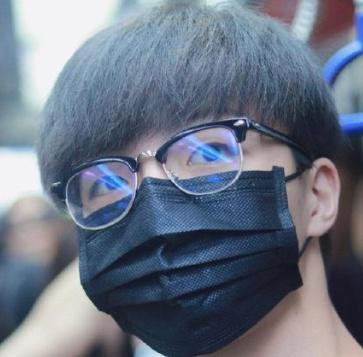OK: (77, 102, 292, 355)
